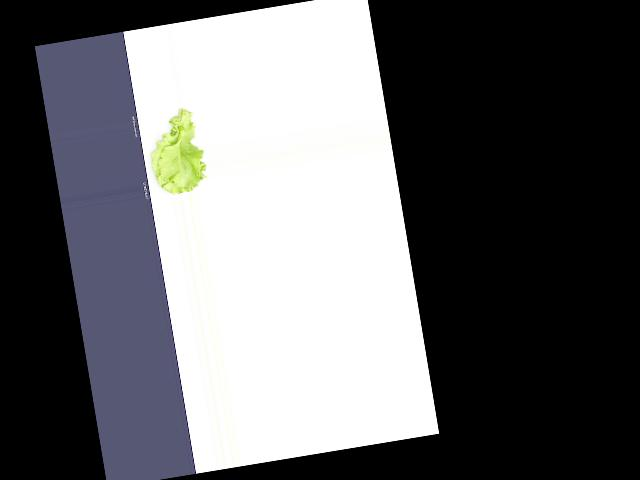lettuce: (139, 107, 210, 198)
